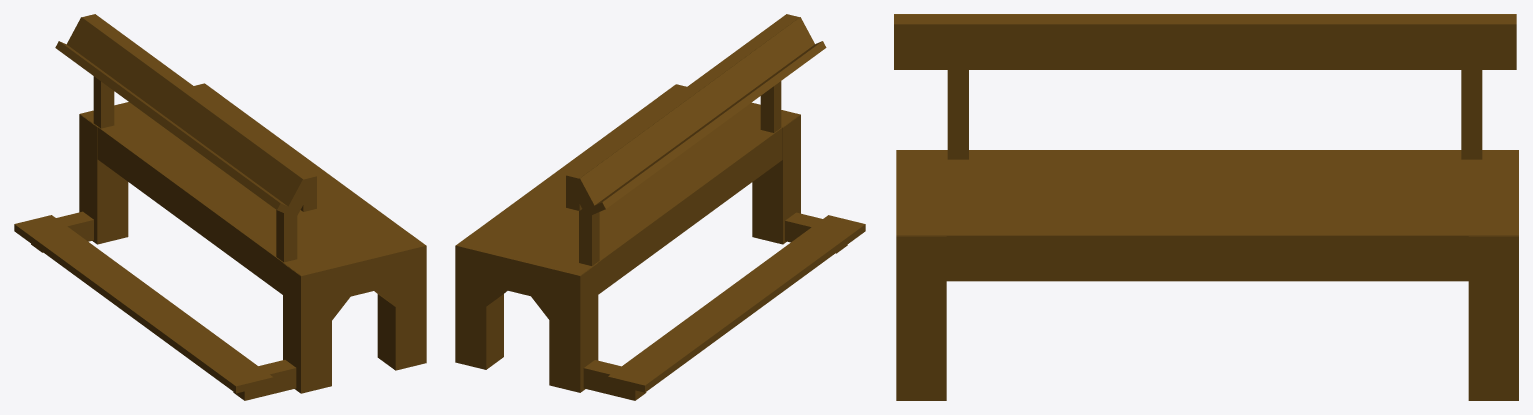
Rendered from Pew.fbx.
3 renders of one model, left to right at view 1: azimuth 30°, elevation 25°; view 2: azimuth 150°, elevation 25°; view 3: azimuth 270°, elevation 25°, orthographic. The views are drawn at different scales.
Visible parts, largest first — view 1: pCube3, pCube14, pCube16, pCube1, pCube6, pCube2, pCube12, pCube17, pCube10, pCube11, pCube13, pCube4 (+1 smaller); view 2: pCube3, pCube14, pCube16, pCube6, pCube1, pCube7, pCube12, pCube13, pCube11, pCube10, pCube17, pCube8 (+1 smaller); view 3: pCube3, pCube12, pCube7, pCube2, pCube11, pCube10, pCube14.
Part boxes in pixels (x1,y1,x2,y2): pCube3: [80, 83, 426, 308]; pCube14: [55, 17, 313, 218]; pCube16: [14, 215, 273, 393]; pCube1: [283, 263, 331, 393]; pCube6: [79, 114, 128, 244]; pCube2: [377, 246, 426, 370]; pCube12: [82, 14, 316, 211]; pCube17: [233, 360, 296, 400]; pCube10: [276, 210, 297, 262]; pCube11: [93, 76, 114, 128]; pCube13: [31, 211, 93, 252]; pCube4: [374, 280, 416, 306]; pCube3: [455, 84, 800, 308]; pCube14: [569, 17, 826, 217]; pCube16: [608, 215, 865, 392]; pCube6: [549, 263, 598, 392]; pCube1: [752, 114, 800, 244]; pCube7: [455, 246, 503, 369]; pCube12: [566, 14, 799, 210]; pCube13: [583, 360, 646, 400]; pCube11: [579, 209, 599, 265]; pCube10: [760, 81, 781, 132]; pCube17: [785, 212, 847, 253]; pCube8: [465, 280, 507, 306]; pCube3: [896, 150, 1518, 281]; pCube12: [894, 15, 1516, 69]; pCube7: [1468, 236, 1518, 400]; pCube2: [896, 236, 946, 400]; pCube11: [1461, 70, 1482, 159]; pCube10: [947, 70, 968, 159]; pCube14: [894, 14, 1516, 14].
Size of the model in its own units: 6.14 by 6.61 by 12.41.
